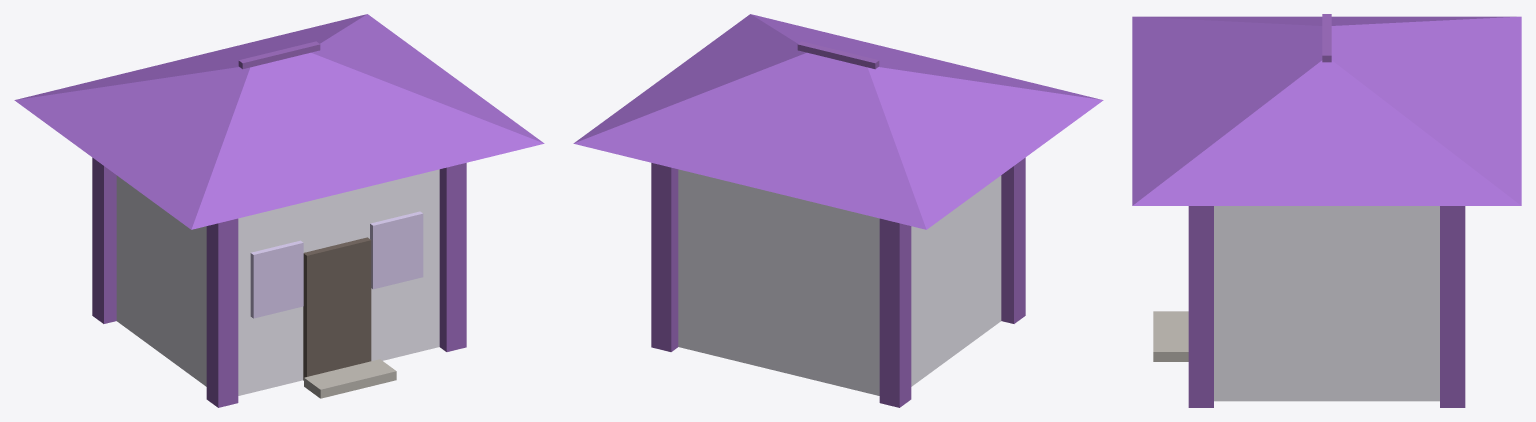
Rendered from residential_a.glb.
3 renders of one model, left to right at view 1: azimuth 30°, elevation 25°; view 2: azimuth 150°, elevation 25°; view 3: azimuth 270°, elevation 25°, orthographic. The views are drawn at different scales.
Bounding box in the file's own units: 4.94 × 3.73 × 4.29.
